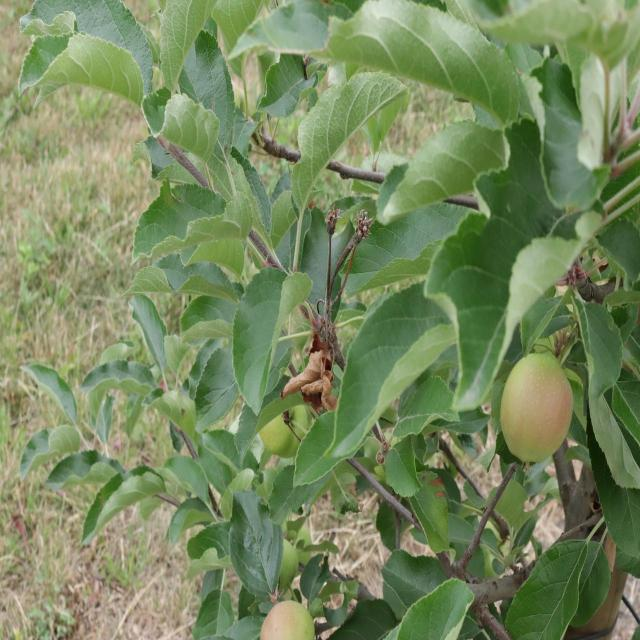-FireBlight-: (288, 321, 337, 415)
